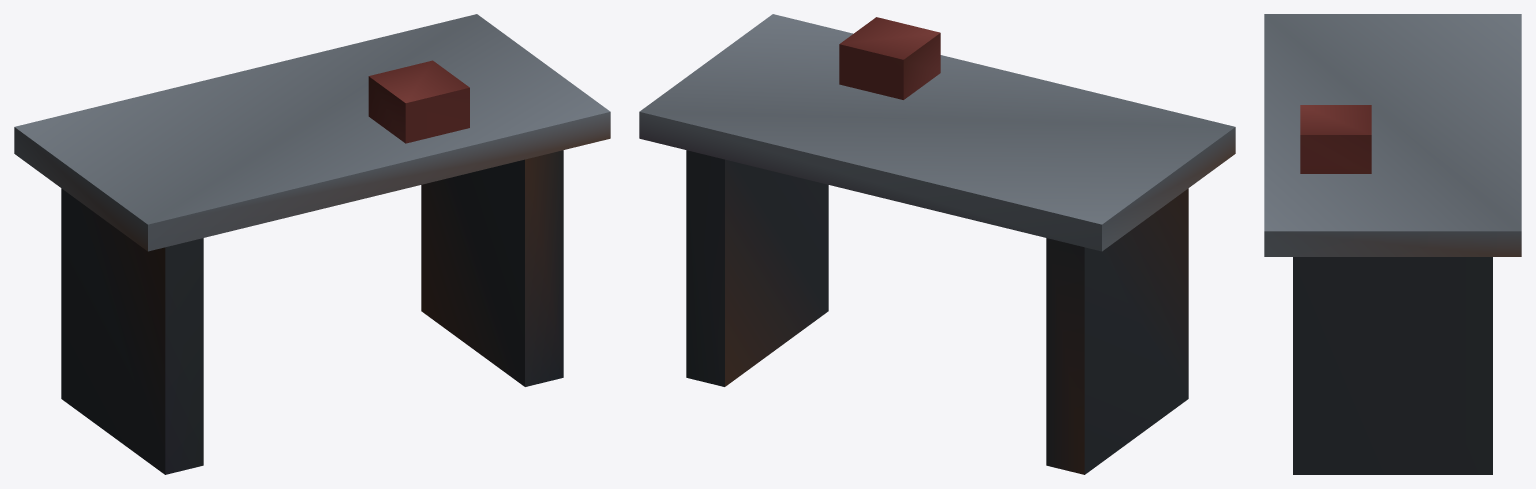
Rendered from table.glb.
3 renders of one model, left to right at view 1: azimuth 30°, elevation 25°; view 2: azimuth 150°, elevation 25°; view 3: azimuth 270°, elevation 25°, orthographic. The views are drawn at different scales.
Parts seen in each view (by area): view 1: table; view 2: table; view 3: table.
Part boxes in pixels (box(x1,y1,x2,y2)): table: box(14, 14, 610, 474); table: box(639, 14, 1235, 474); table: box(1264, 14, 1521, 474).
Bounding box in the file's own units: 36 × 23 × 18.
